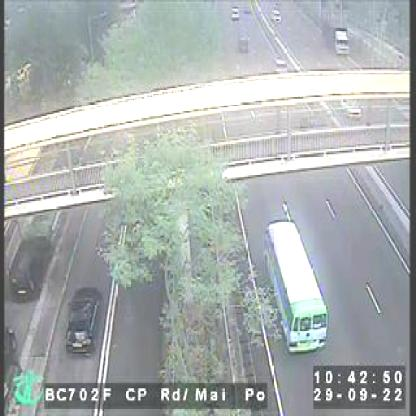Bus: (257, 216, 329, 359)
Car: (62, 279, 102, 362), (11, 230, 53, 307), (338, 92, 363, 119), (268, 55, 288, 73), (238, 29, 248, 54), (268, 7, 283, 22), (230, 3, 241, 21)
Truck: (319, 18, 351, 58)
